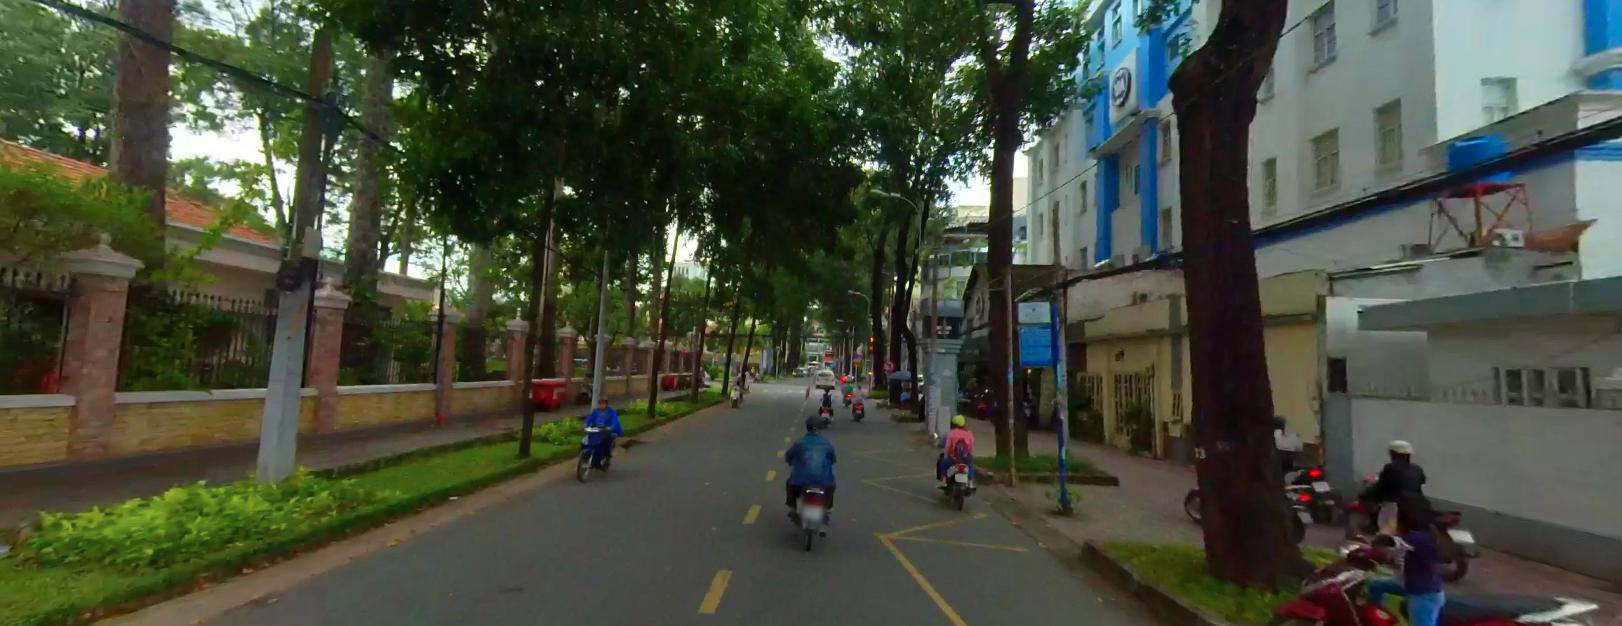Cam dung va do: (853, 352, 857, 356)
Cam re: (883, 358, 894, 369)
Nguy hiem: (853, 360, 858, 364)
